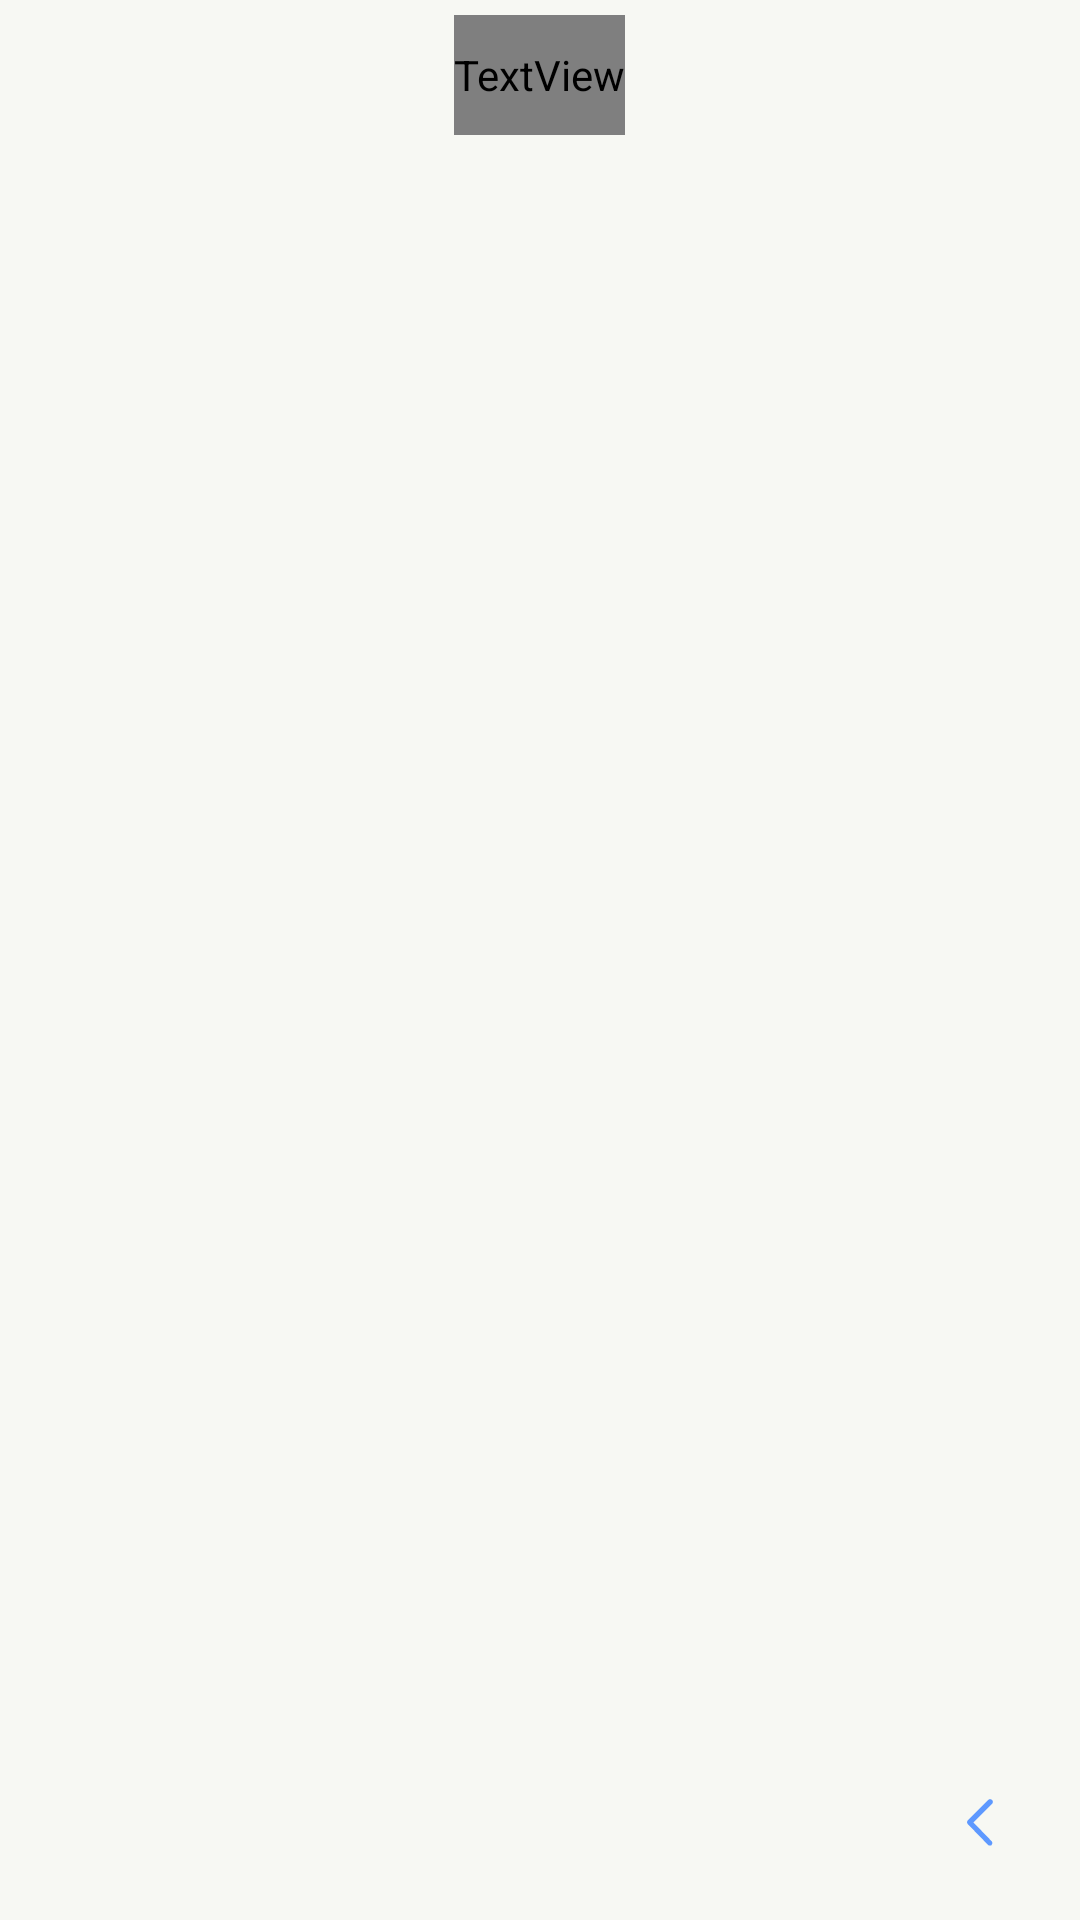

Named icons in this screenshot (1080px x 1920px) and their centers, (x,y):
back: (980,1822)
